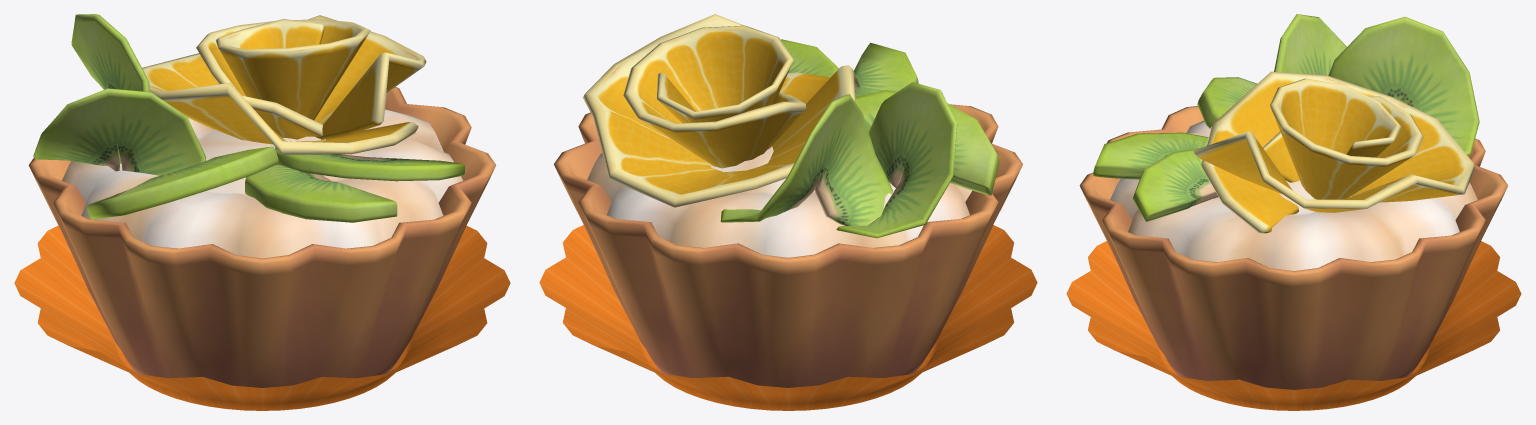
File: cupcake_orange_kiwi_0.fbx
The picture shows the model from 3 angles, left to right: view 1: azimuth 30°, elevation 25°; view 2: azimuth 150°, elevation 25°; view 3: azimuth 270°, elevation 25°; orthographic projection. The views are drawn at different scales.
Visible parts, largest first — view 1: cake_basket_orange_kiwi_1; view 2: cake_basket_orange_kiwi_1; view 3: cake_basket_orange_kiwi_1.
Boxes of the visible parts, <box> form: cake_basket_orange_kiwi_1: <box>14,14,510,410</box>; cake_basket_orange_kiwi_1: <box>539,14,1037,410</box>; cake_basket_orange_kiwi_1: <box>1066,14,1521,410</box>.
Size of the model in its own units: 12.04 by 8.51 by 12.04.
